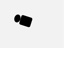human: (12, 11, 34, 27)
